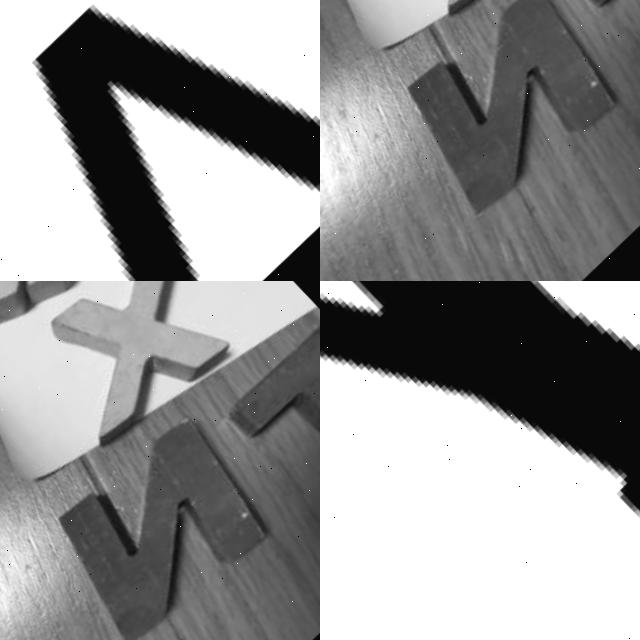A: (0, 0, 320, 281)
N: (381, 0, 640, 228), (43, 395, 277, 640)
R: (0, 281, 207, 337)
T: (210, 295, 320, 513), (563, 0, 640, 82)
X: (17, 281, 260, 457)
Y: (320, 281, 640, 640)
